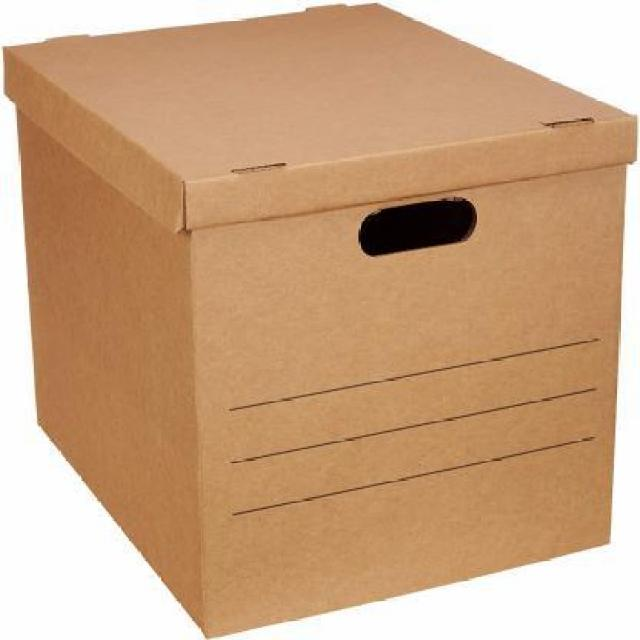box: (1, 1, 638, 640)
normal_hole: (357, 195, 478, 258)
